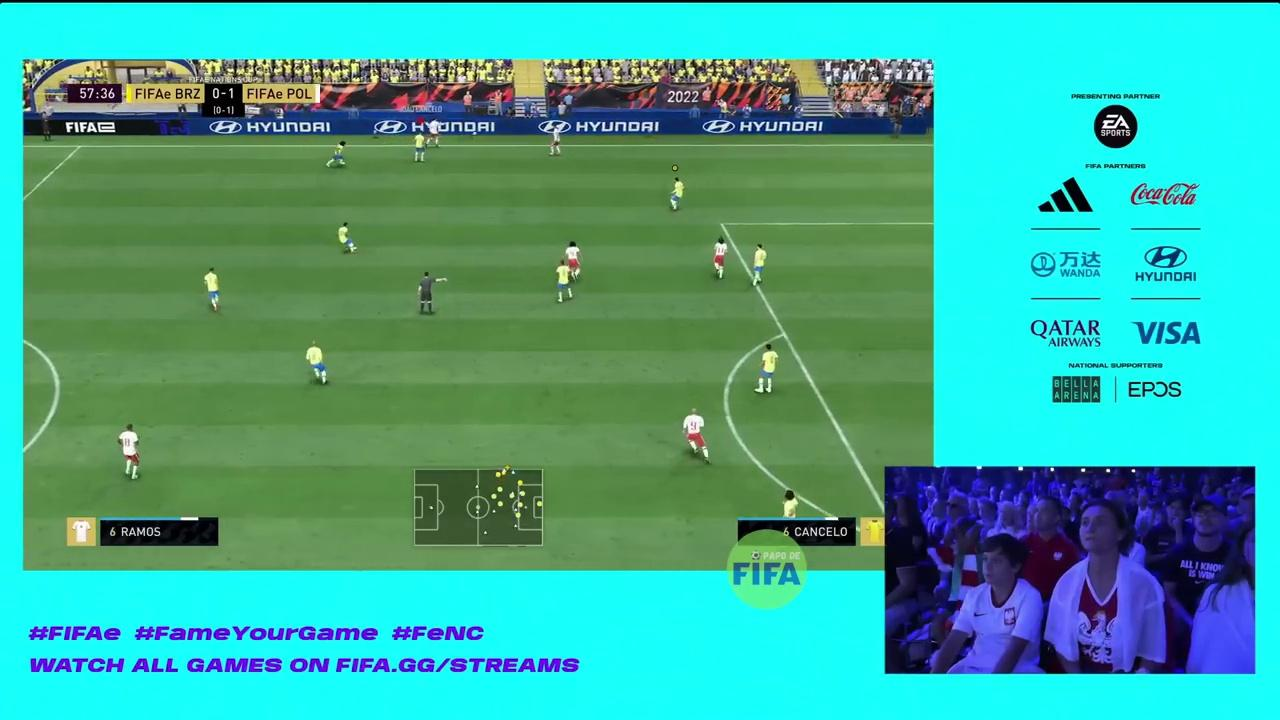scoreboard: (128, 83, 325, 106)
timestamp: (65, 84, 123, 106)
